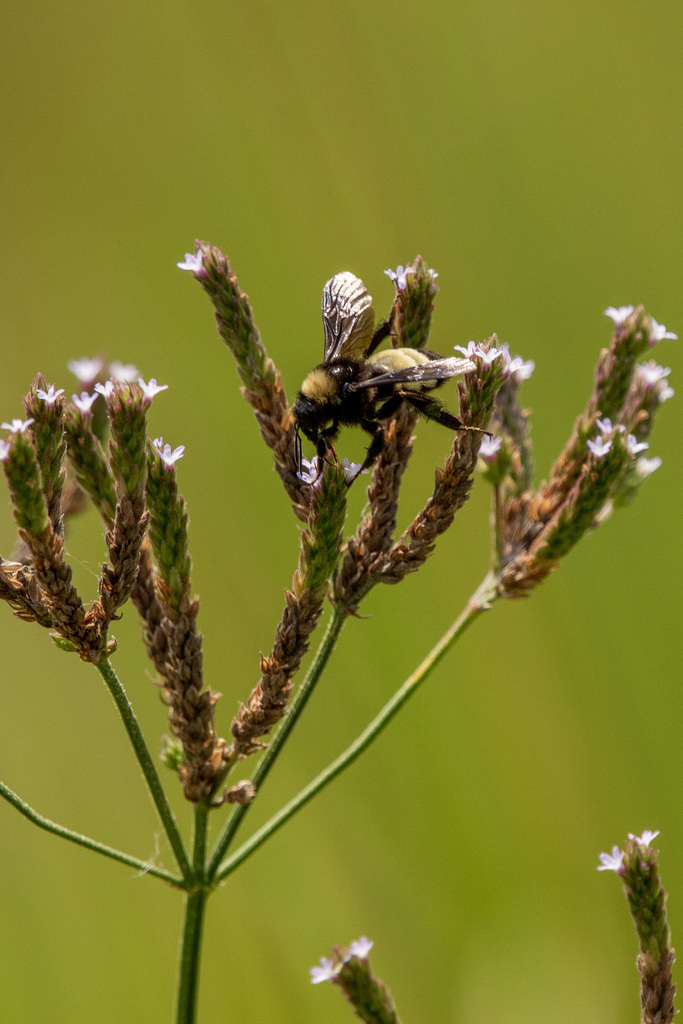bumblebee: (289, 270, 498, 487)
